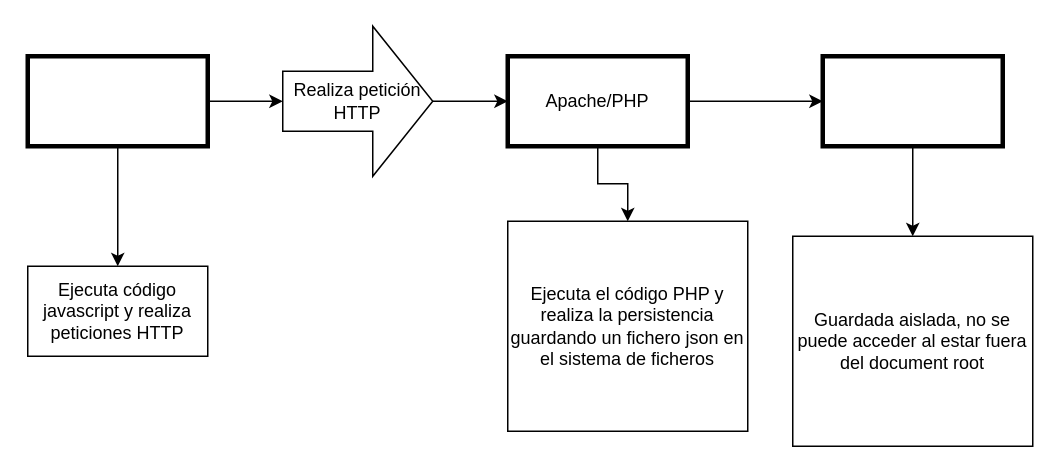
Some shapes in this 1059 by 473 pixel diagram are drawn without their labels. Each missing label, with the centre of its shape:
"Browser" goes at point 117,100.
"Persistencia (JSON)" goes at point 912,100.
